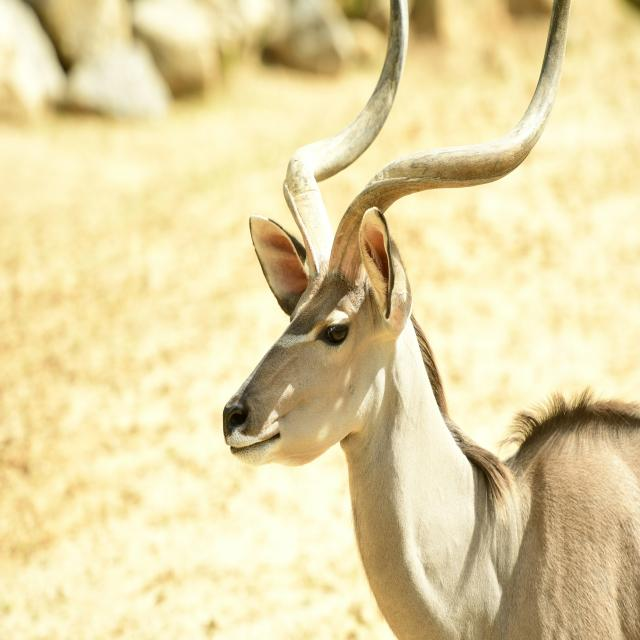Antelope: (224, 0, 640, 640)
